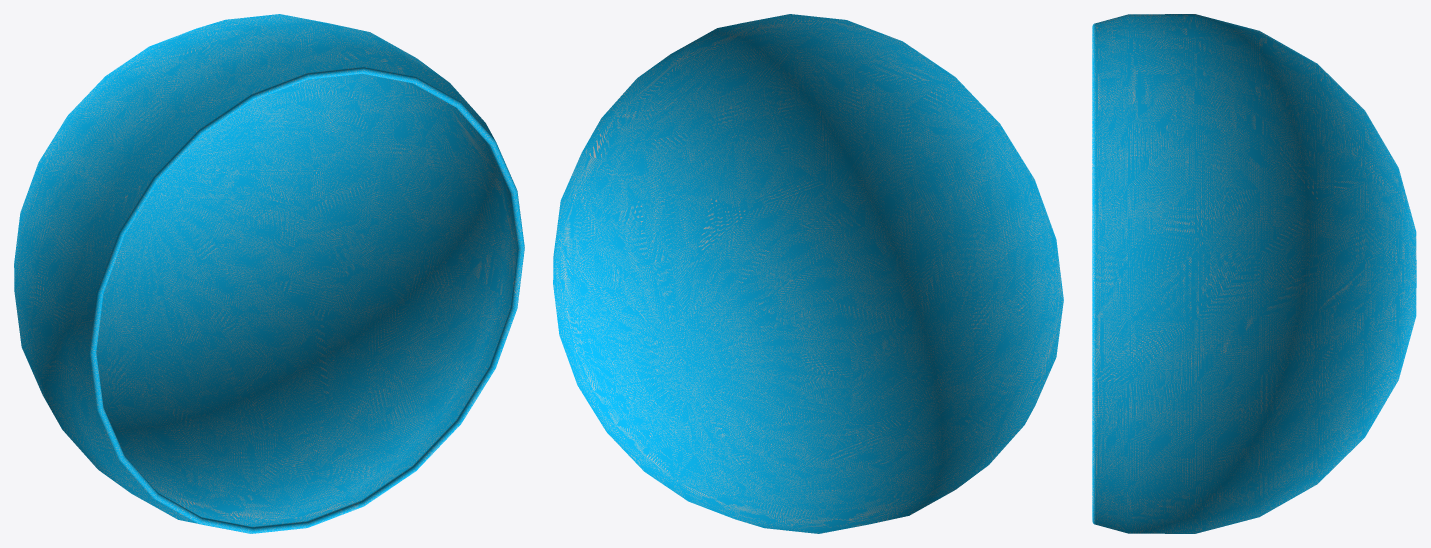
The model's file is model_scale.obj.
3 views of the same model, side by side, from view 1: azimuth 30°, elevation 25°; view 2: azimuth 150°, elevation 25°; view 3: azimuth 270°, elevation 25° (orthographic).
Parts seen in each view (by area): view 1: mesh1_mesh1-geometry; view 2: mesh1_mesh1-geometry; view 3: mesh1_mesh1-geometry.
Part boxes in pixels (box(x1,y1,x2,y2)): mesh1_mesh1-geometry: box(14, 14, 524, 533); mesh1_mesh1-geometry: box(553, 14, 1063, 533); mesh1_mesh1-geometry: box(1092, 14, 1416, 533).
Size of the model in its own units: 0.1572 by 0.1572 by 0.0976.
